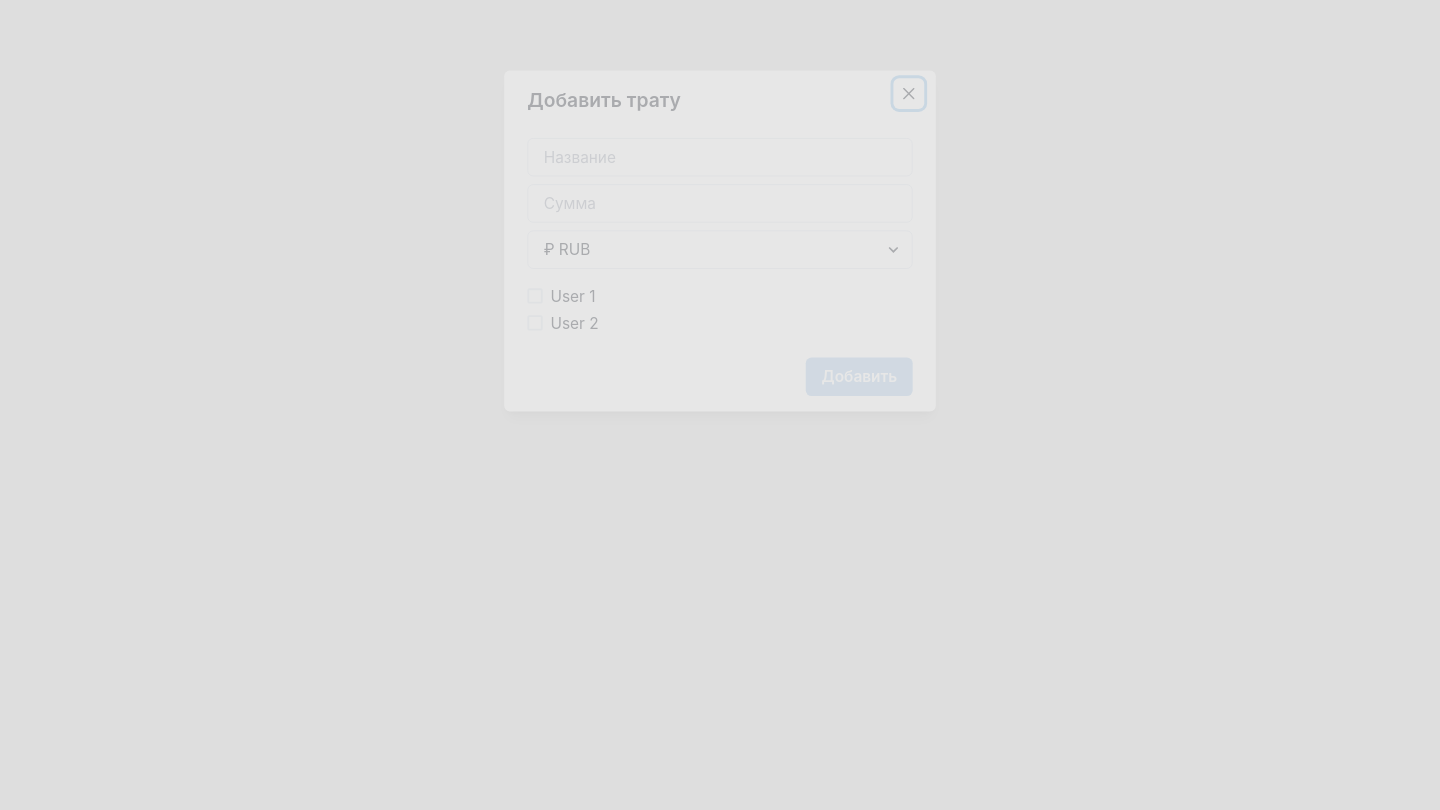
AddExpenseModal › включает кнопку при заполнении всех полей
Expected: the text "User 1" is shown, [550,284,595,308]
Type "Обед" into the field with placeholder "Название" at {"x": 720, "y": 157}, box [527,138,913,176]
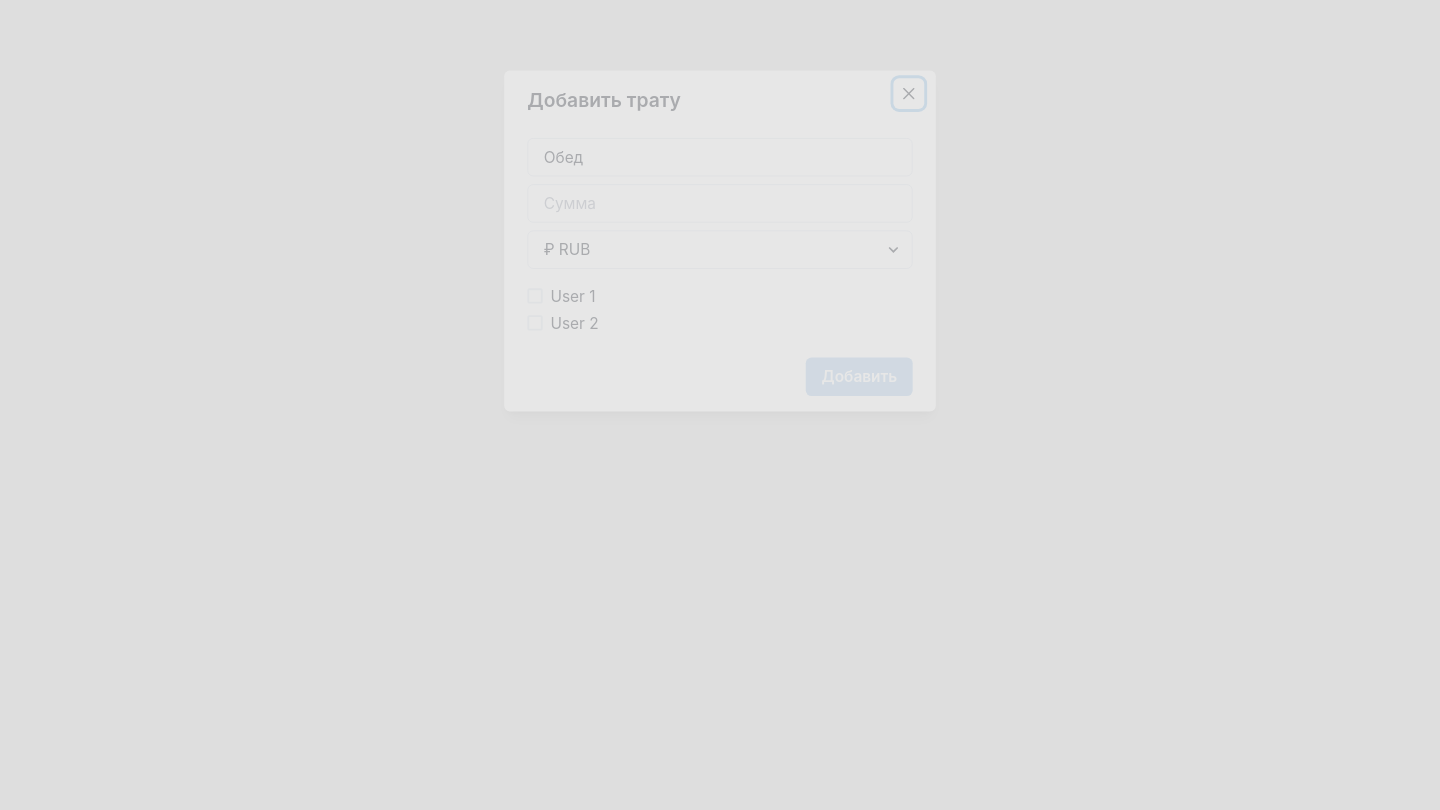
Type "500" into the number field with placeholder "Сумма" at {"x": 720, "y": 203}, box [527,184,913,223]
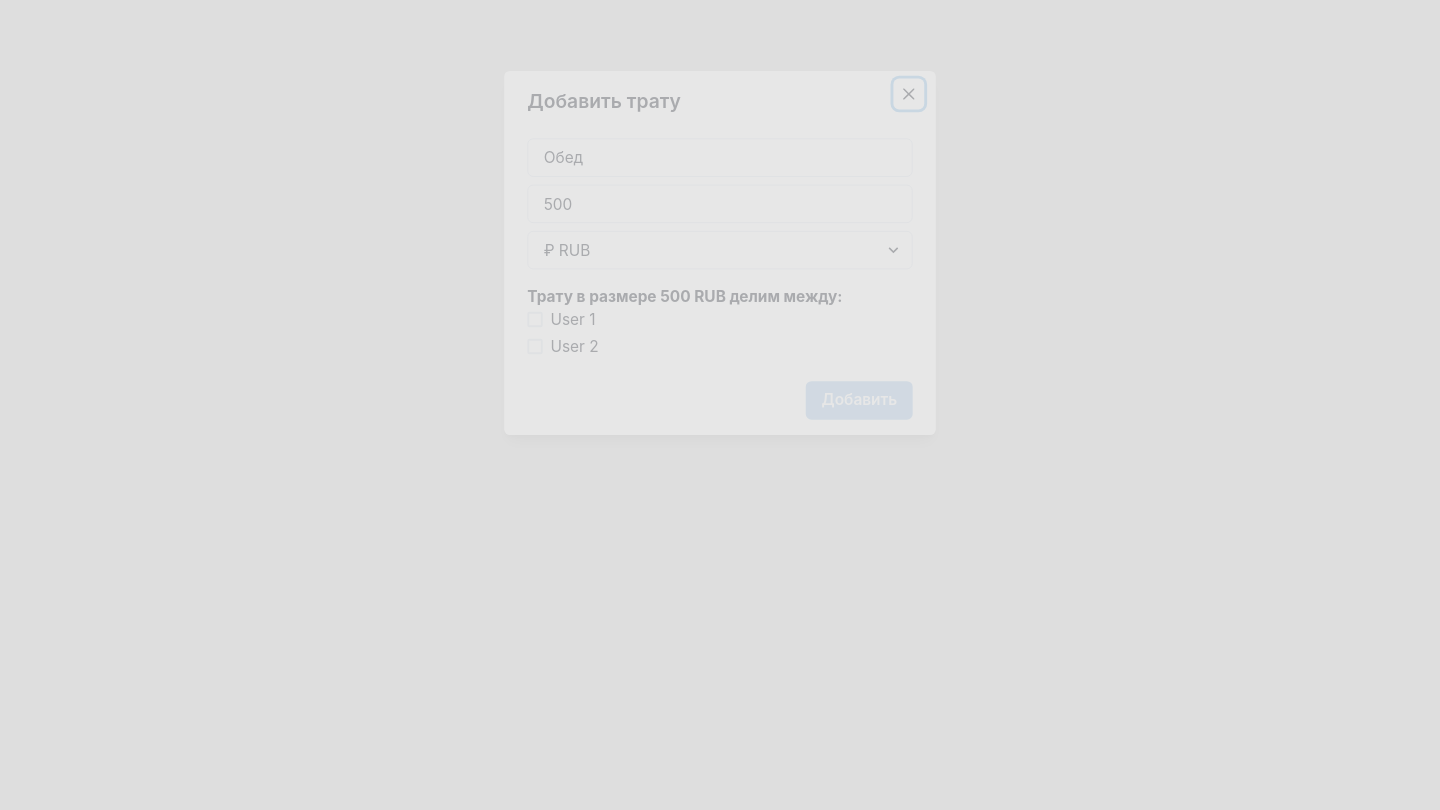
Click the text "User 1" at {"x": 573, "y": 319}, box [550,308,595,331]
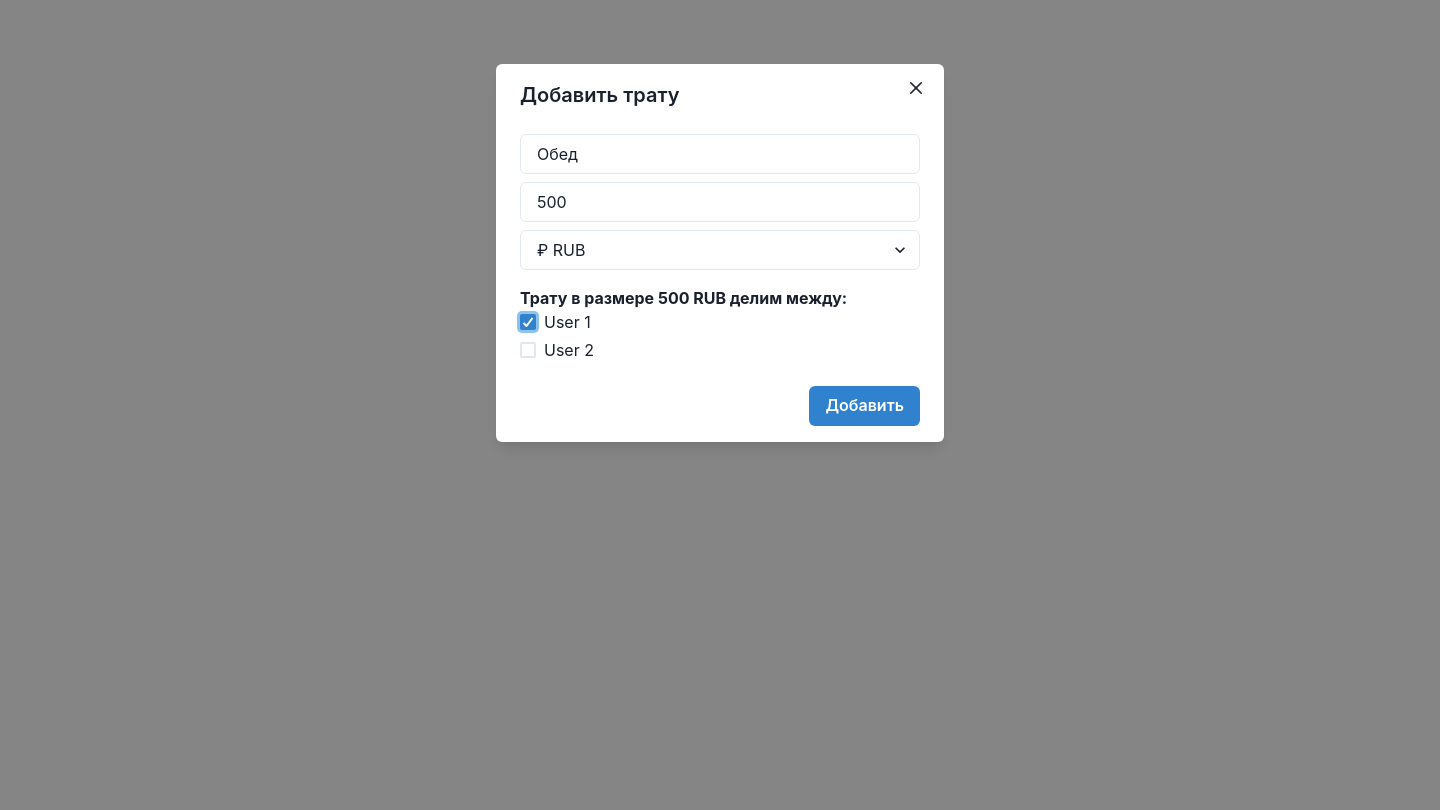
Expected: the button "Добавить" is enabled, [810,386,920,426]
